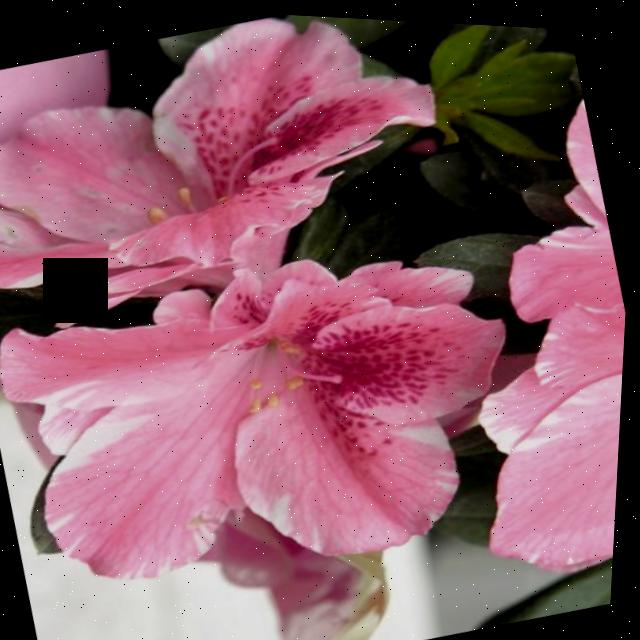azalea: (0, 155, 584, 640), (0, 0, 458, 359)
